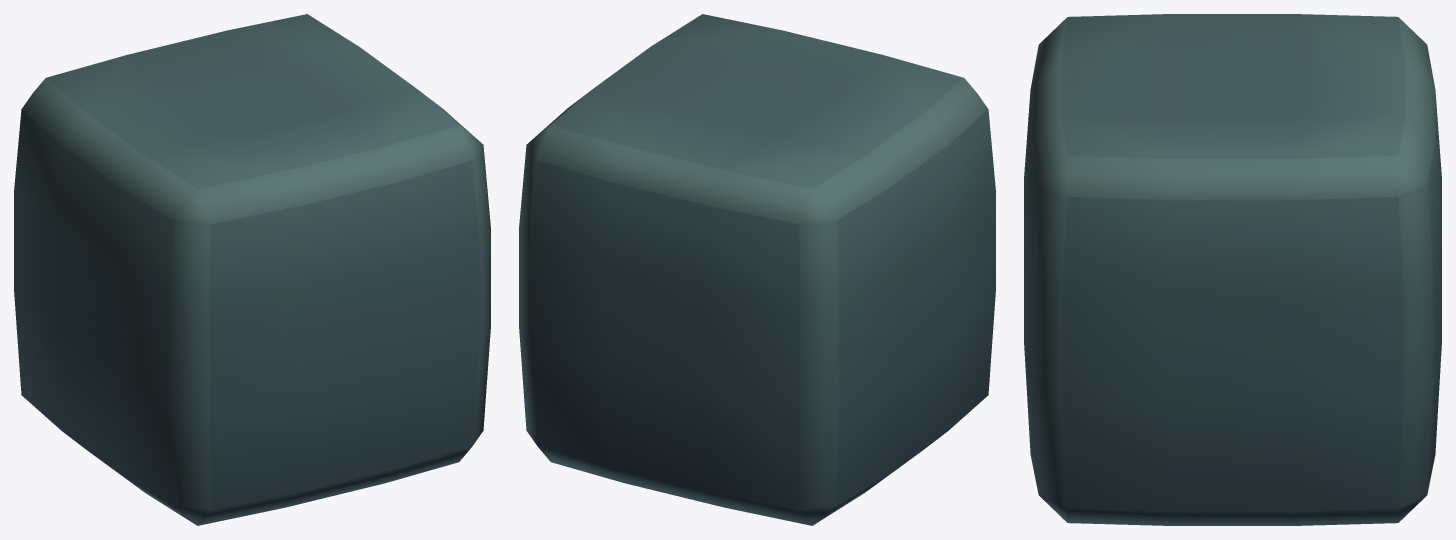
The model's file is cube_04_shade_3_LOD_setup.fbx.
3 renders of one model, left to right at view 1: azimuth 30°, elevation 25°; view 2: azimuth 150°, elevation 25°; view 3: azimuth 270°, elevation 25°, orthographic. The views are drawn at different scales.
Parts seen in each view (by area): view 1: cube_04_shade_3_LOD0; view 2: cube_04_shade_3_LOD0; view 3: cube_04_shade_3_LOD0.
Boxes of the visible parts, box(x1,y1,x2,y2) form: cube_04_shade_3_LOD0: box(14, 14, 490, 525); cube_04_shade_3_LOD0: box(519, 14, 995, 525); cube_04_shade_3_LOD0: box(1024, 14, 1441, 525).
Size of what is drawn, in the model's own units: 112 by 108 by 112.
